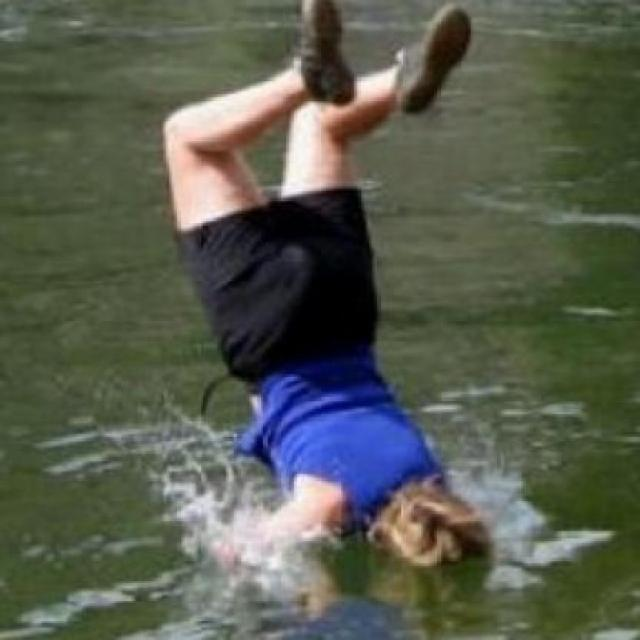fall: (146, 0, 539, 578)
